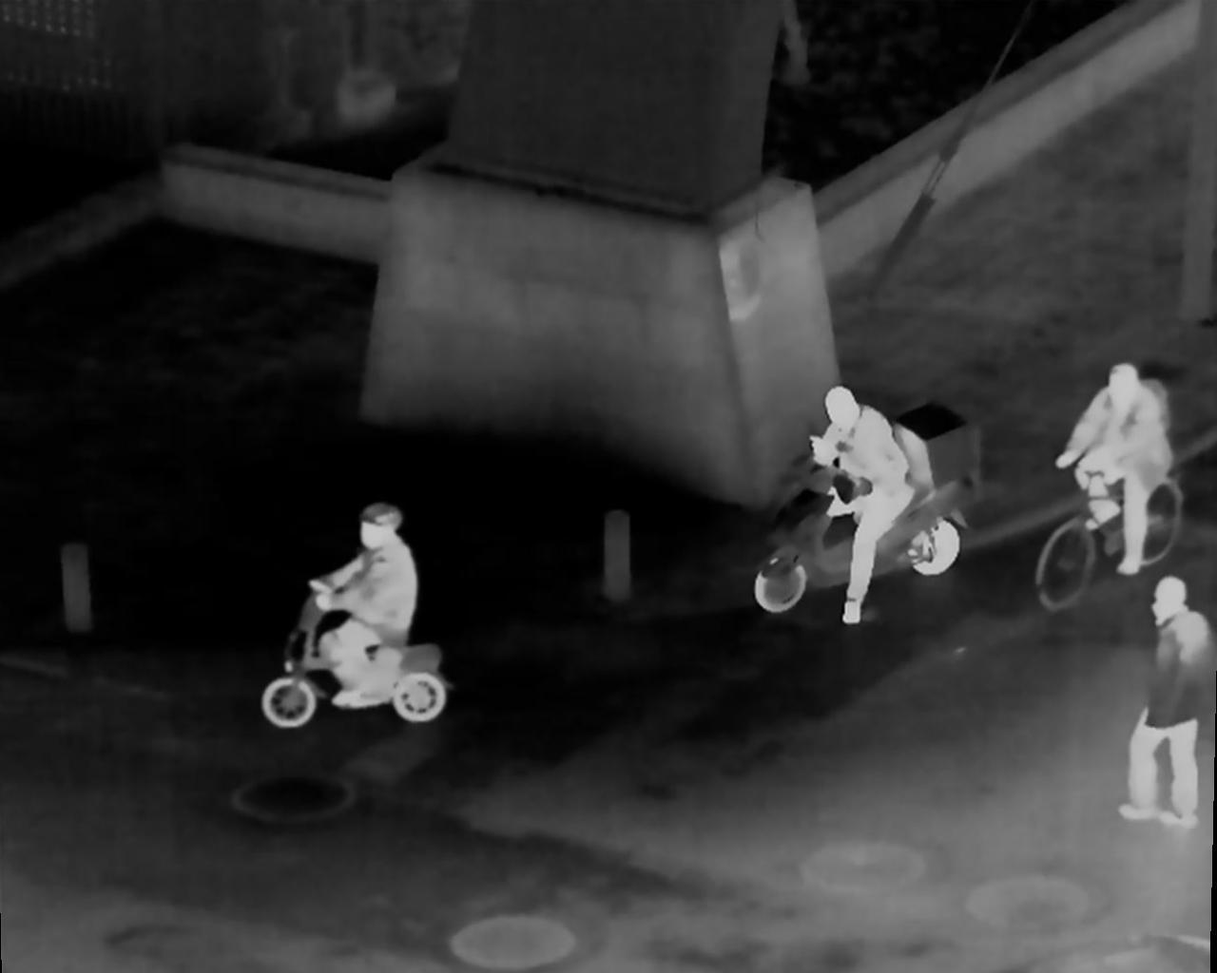person: (300, 509, 419, 716), (806, 386, 905, 628), (1048, 362, 1166, 552), (1127, 567, 1206, 824)
